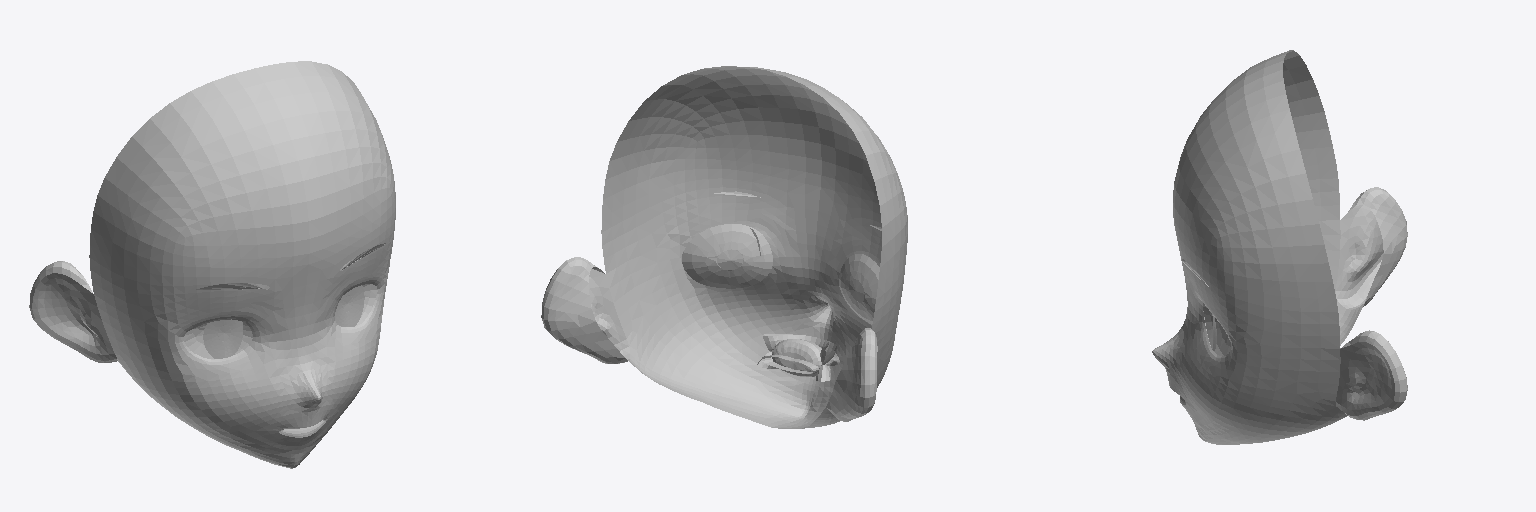
The model's file is eyeLookInLeft.obj.
The picture shows the model from 3 angles: view 1: azimuth 30°, elevation 25°; view 2: azimuth 150°, elevation 25°; view 3: azimuth 270°, elevation 25°; orthographic projection.
Parts seen in each view (by area): view 1: Face; view 2: Face; view 3: Face.
Boxes of the visible parts, x1=… form: Face: x1=29, y1=61, x2=395, y2=468; Face: x1=541, y1=66, x2=907, y2=428; Face: x1=1152, y1=50, x2=1407, y2=444.
Bounding box in the file's own units: 0.2176 × 0.2333 × 0.1449.